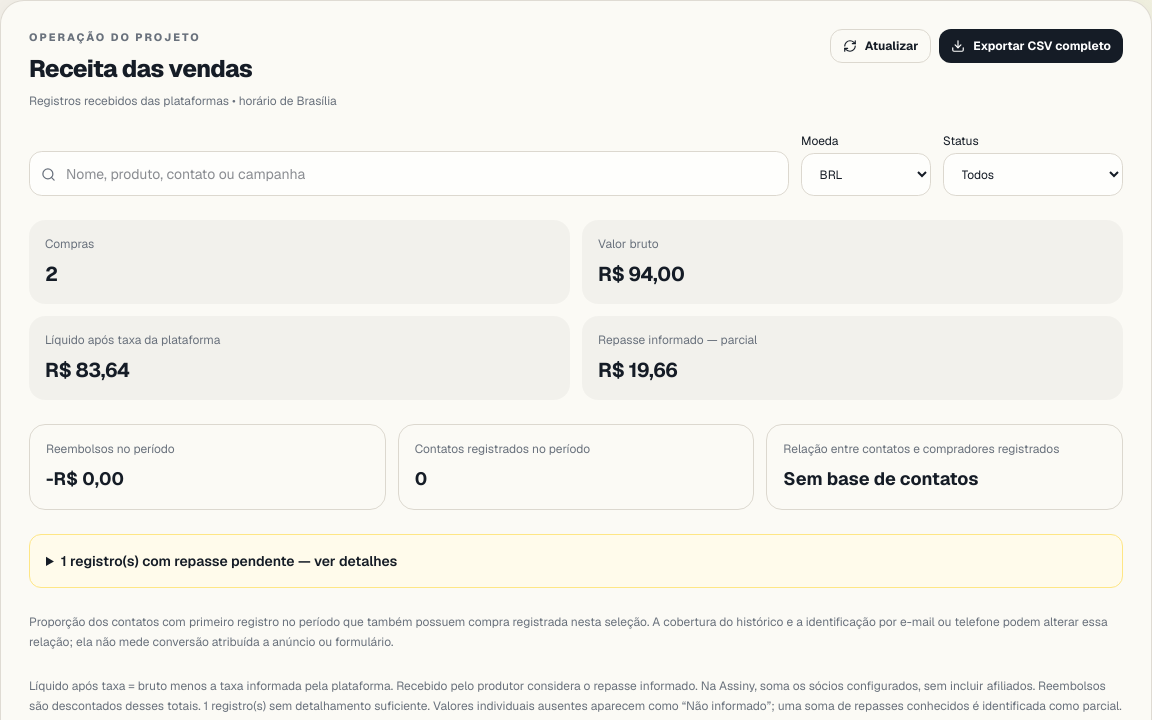
Test: shows a partial payout and identifies the exact records that need attention
This screenshot has width=1152, height=720.
Expected: the text "R$ 19,66" is shown, left=598, top=357, right=677, bottom=383
Step 1. Click the heading "1 registro(s) com repasse pendente — ver detalhes" → (229,561), box left=61, top=552, right=397, bottom=570
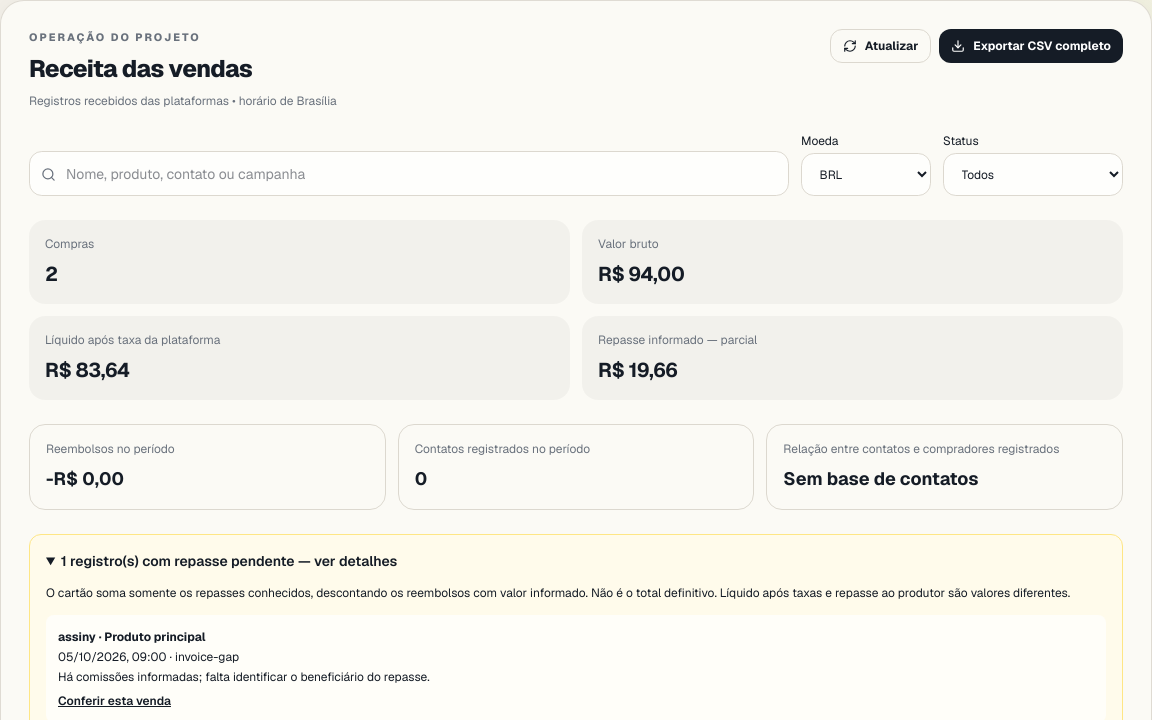
Now the text "falta identificar o beneficiário" is shown, box left=58, top=669, right=430, bottom=685
Step 2. Click the button "Conferir esta venda" → (114,701), box left=58, top=691, right=171, bottom=711
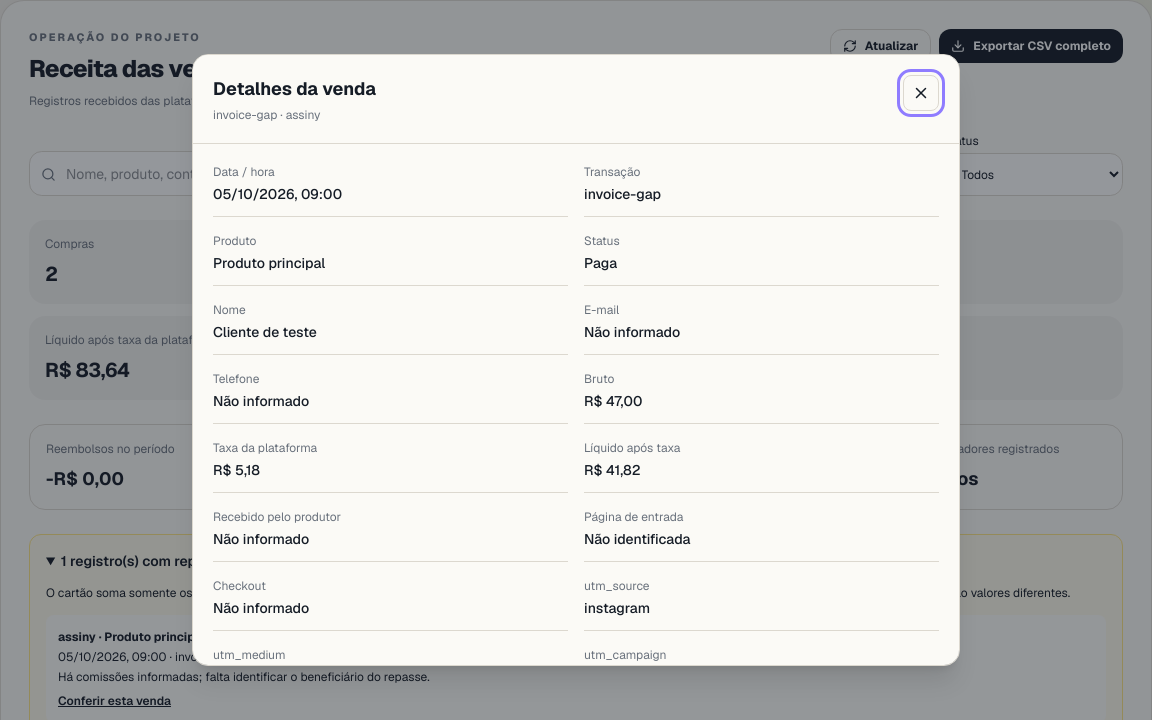
Now the text "invoice-gap" is shown, box left=584, top=185, right=661, bottom=203
